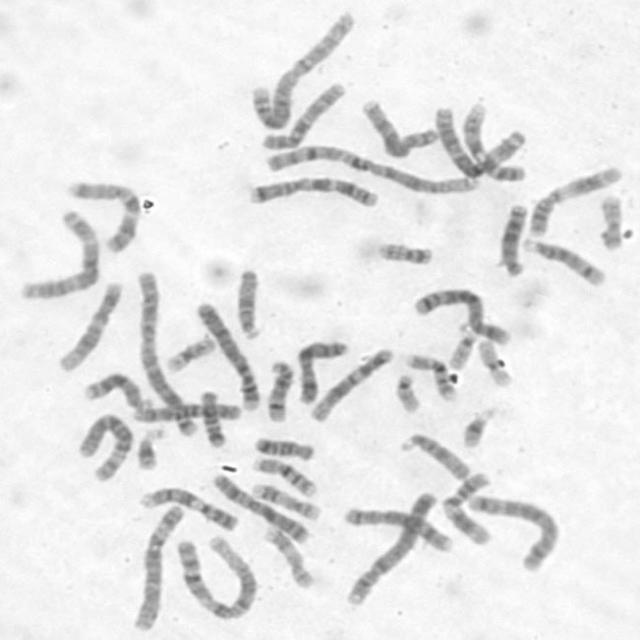A1: (262, 141, 482, 196), (170, 531, 261, 621)
A2: (247, 5, 357, 132), (132, 266, 200, 438)
A3: (14, 205, 103, 302), (430, 101, 529, 181)
B4: (341, 485, 440, 608), (192, 296, 264, 412)
B5: (463, 490, 560, 573), (408, 282, 516, 348)
C10: (256, 78, 346, 152), (129, 398, 244, 424)
C11: (523, 160, 625, 238), (440, 467, 496, 546)
C12: (305, 342, 396, 423), (53, 276, 125, 373)
C6: (127, 500, 187, 633), (72, 409, 132, 483)
C7: (60, 173, 143, 255), (243, 171, 381, 209)
C8: (339, 503, 454, 554), (355, 93, 442, 160)
C9: (456, 98, 527, 183), (136, 482, 242, 532)
D13: (80, 366, 150, 411), (495, 198, 530, 278)
D14: (518, 232, 610, 289), (260, 355, 296, 424)
D15: (396, 427, 474, 482), (231, 264, 264, 342)
E16: (402, 348, 461, 402), (250, 453, 320, 498)
E17: (258, 522, 314, 589), (248, 478, 324, 522)
E18: (195, 386, 227, 448), (250, 432, 316, 462)
F19: (160, 330, 218, 375), (474, 334, 515, 388)
F20: (594, 190, 627, 252), (372, 236, 436, 266)
G21: (457, 402, 497, 450), (132, 423, 167, 472)
G22: (444, 319, 479, 370), (390, 369, 424, 414)
X: (208, 470, 310, 545), (289, 335, 349, 406)
